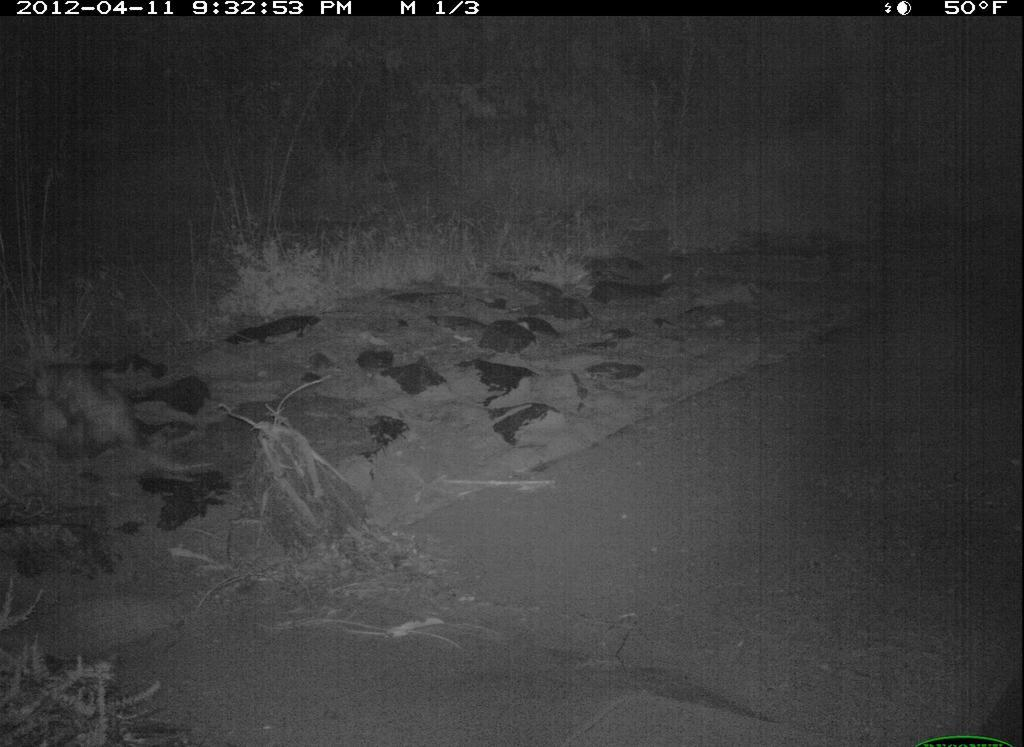opossum: (27, 353, 218, 479)
